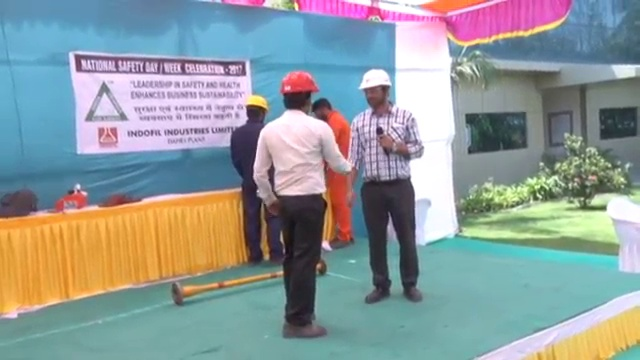helmet: (277, 68, 321, 96), (355, 67, 395, 92), (242, 93, 272, 112)
helmet_off: (310, 92, 335, 123)
helmet_on: (276, 66, 320, 120), (355, 66, 397, 115), (241, 90, 271, 126)
person: (253, 69, 349, 339), (349, 66, 426, 305), (231, 91, 284, 265), (311, 92, 356, 248)
